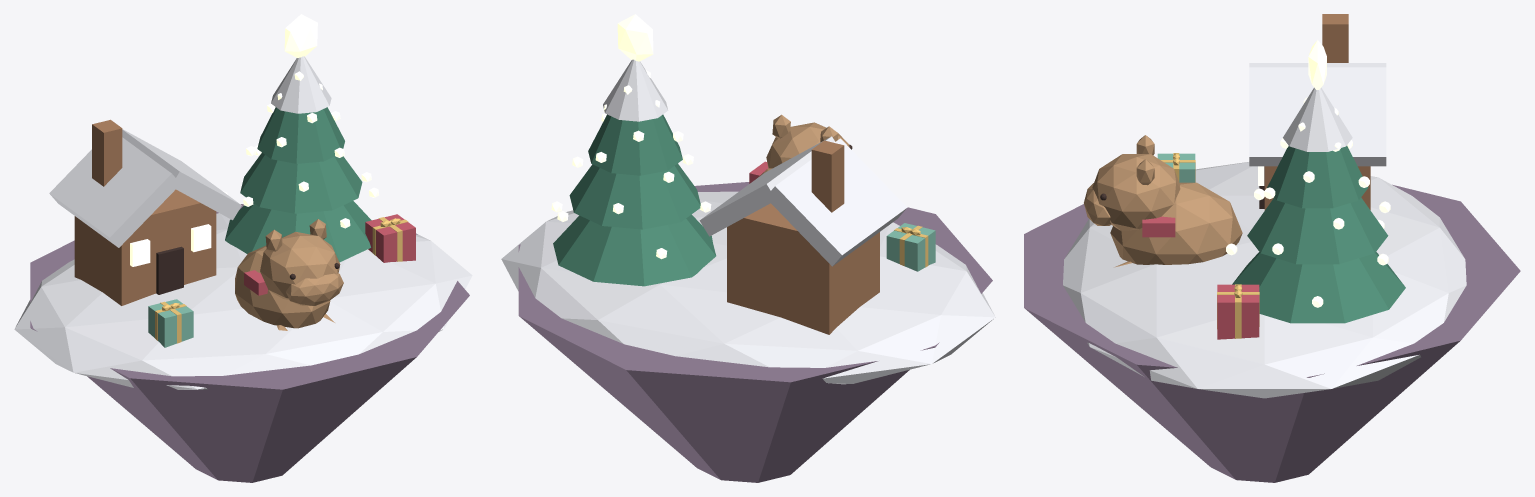
File: christmas-world.glb
3 renders of one model, left to right at view 1: azimuth 30°, elevation 25°; view 2: azimuth 150°, elevation 25°; view 3: azimuth 270°, elevation 25°, orthographic. The views are drawn at different scales.
Visible parts, largest first — view 1: Snow island, Floating island, Cottage, Snow roof, Evergreen bough.001, Evergreen bough, Evergreen bough.002, Capy head, Capy body, Snow roof.001, Snow bough.002, Chimney (+7 smaller); view 2: Snow island, Floating island, Cottage, Evergreen bough, Snow roof, Evergreen bough.001, Evergreen bough.002, Snow roof.001, Snow bough.002, Chimney, MintGiftBox, Capy head (+1 smaller); view 3: Snow island, Floating island, Snow roof.001, Evergreen bough, Evergreen bough.001, Capy body, Evergreen bough.002, Capy head, Snow bough.002, SmallGiftBox, Chimney, Star (+5 smaller).
Boxes of the visible parts, left/top/right/bottom form: Snow island: left=14, top=213, right=472, bottom=389; Floating island: left=30, top=204, right=469, bottom=482; Cottage: left=74, top=189, right=216, bottom=305; Snow roof: left=49, top=137, right=180, bottom=247; Evergreen bough.001: left=240, top=152, right=362, bottom=213; Evergreen bough: left=225, top=201, right=371, bottom=262; Evergreen bough.002: left=257, top=107, right=344, bottom=163; Capy head: left=260, top=232, right=340, bottom=300; Capy body: left=235, top=245, right=330, bottom=328; Snow roof.001: left=122, top=129, right=241, bottom=220; Snow bough.002: left=271, top=56, right=331, bottom=113; Chimney: left=92, top=119, right=122, bottom=186; Snow island: left=501, top=191, right=995, bottom=384; Floating island: left=518, top=182, right=992, bottom=482; Cottage: left=727, top=203, right=879, bottom=334; Evergreen bough: left=553, top=214, right=716, bottom=286; Snow roof: left=765, top=138, right=907, bottom=266; Evergreen bough.001: left=569, top=163, right=700, bottom=229; Evergreen bough.002: left=588, top=114, right=682, bottom=175; Snow roof.001: left=699, top=136, right=835, bottom=236; Snow bough.002: left=603, top=59, right=668, bottom=121; Chimney: left=811, top=140, right=844, bottom=212; MintGiftBox: left=886, top=223, right=935, bottom=271; Capy head: left=766, top=122, right=849, bottom=168; Snow island: left=1063, top=162, right=1466, bottom=398; Floating island: left=1024, top=184, right=1520, bottom=482; Snow roof.001: left=1249, top=67, right=1386, bottom=166; Evergreen bough: left=1232, top=252, right=1405, bottom=323; Evergreen bough.001: left=1247, top=197, right=1388, bottom=264; Capy body: left=1110, top=182, right=1242, bottom=264; Evergreen bough.002: left=1267, top=146, right=1368, bottom=208; Capy head: left=1092, top=154, right=1180, bottom=230; Snow bough.002: left=1283, top=87, right=1352, bottom=151; SmallGiftBox: left=1217, top=284, right=1259, bottom=339; Chimney: left=1322, top=14, right=1348, bottom=62; Star: left=1308, top=40, right=1326, bottom=89.
Size of the model in its own units: 1.18 by 1.16 by 1.13.
